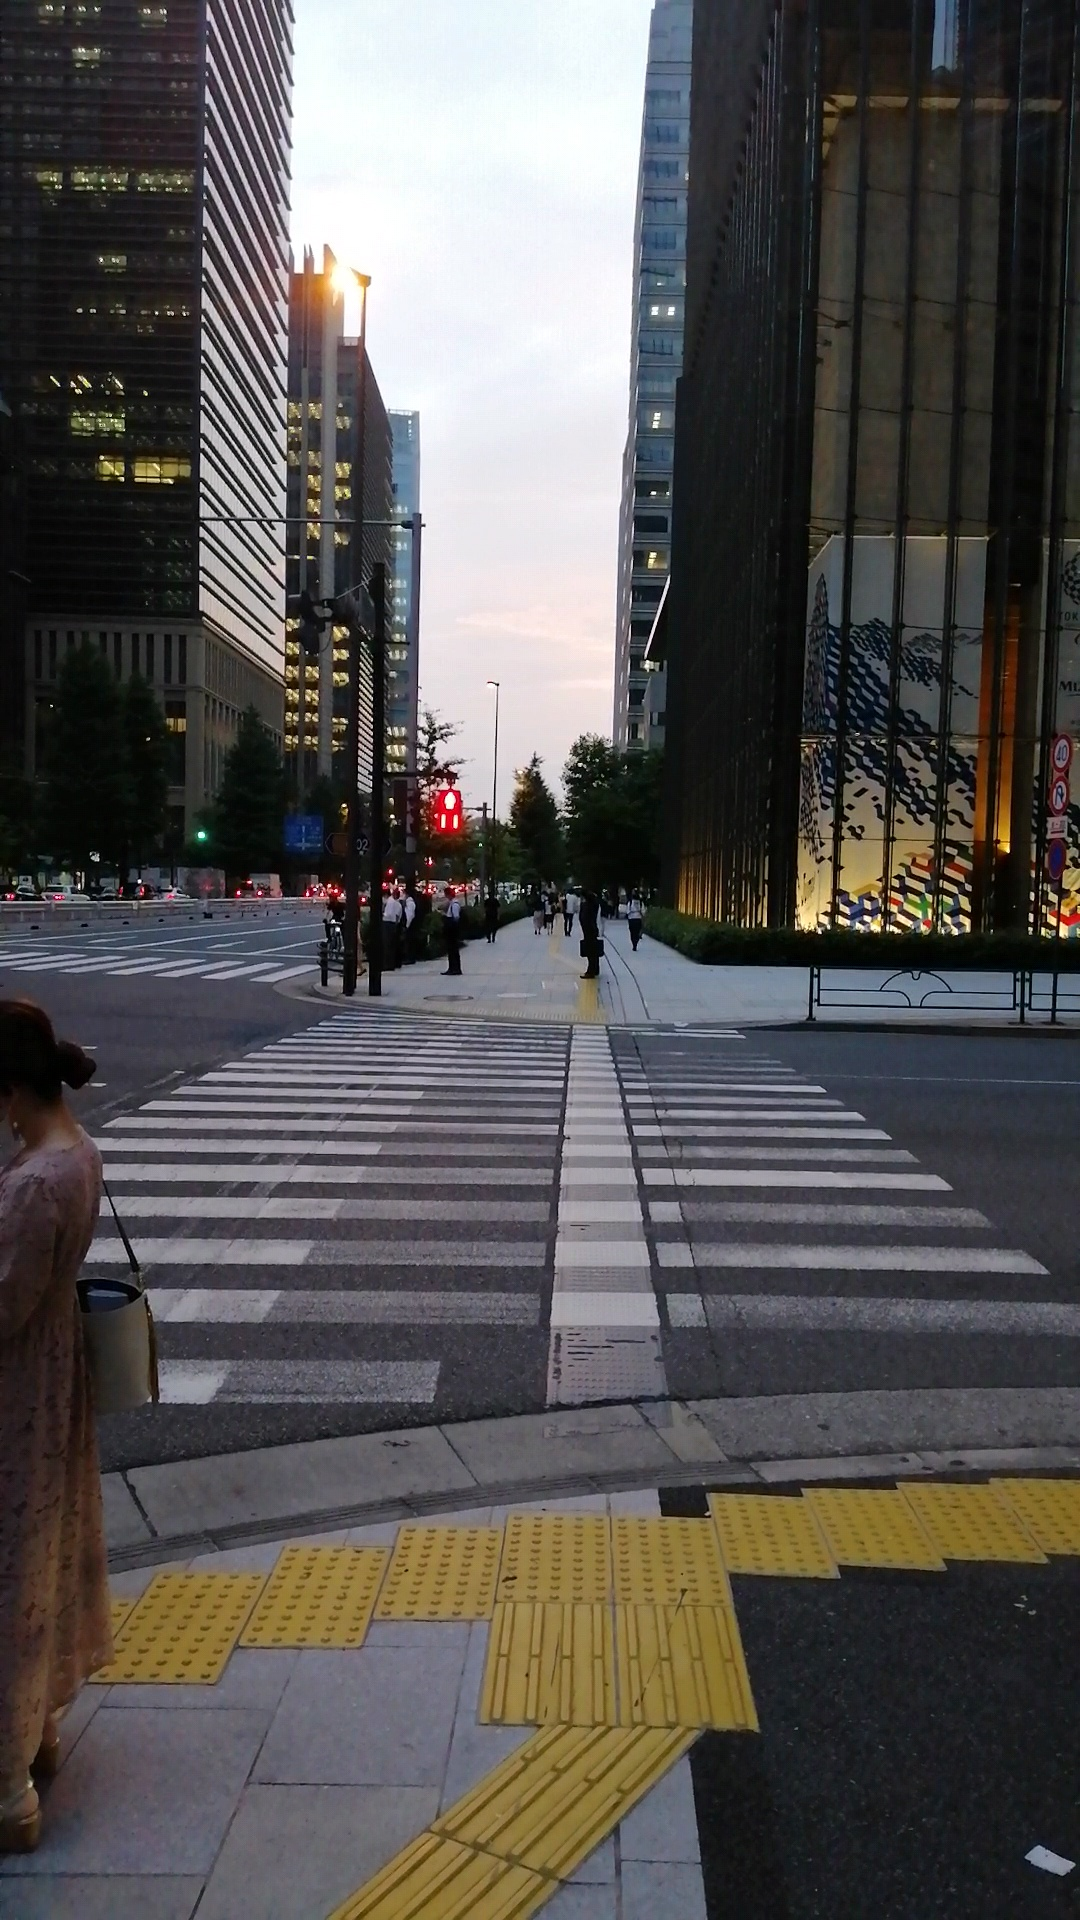red: (435, 789, 464, 836)
